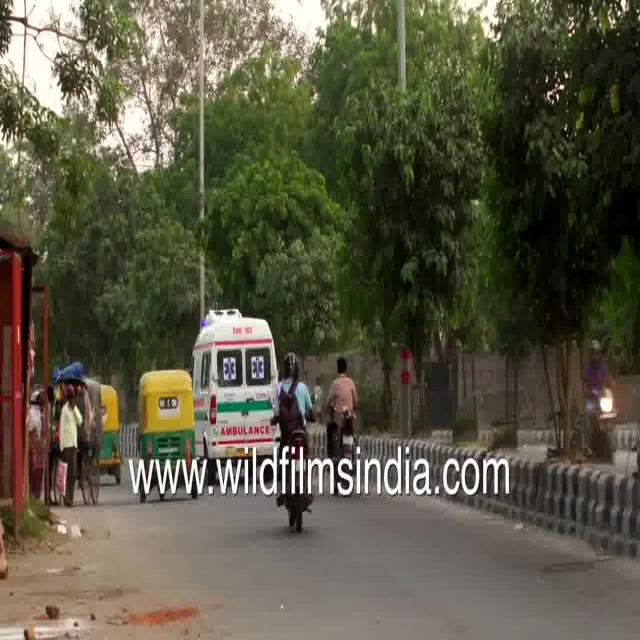ambulance: (194, 309, 281, 456)
